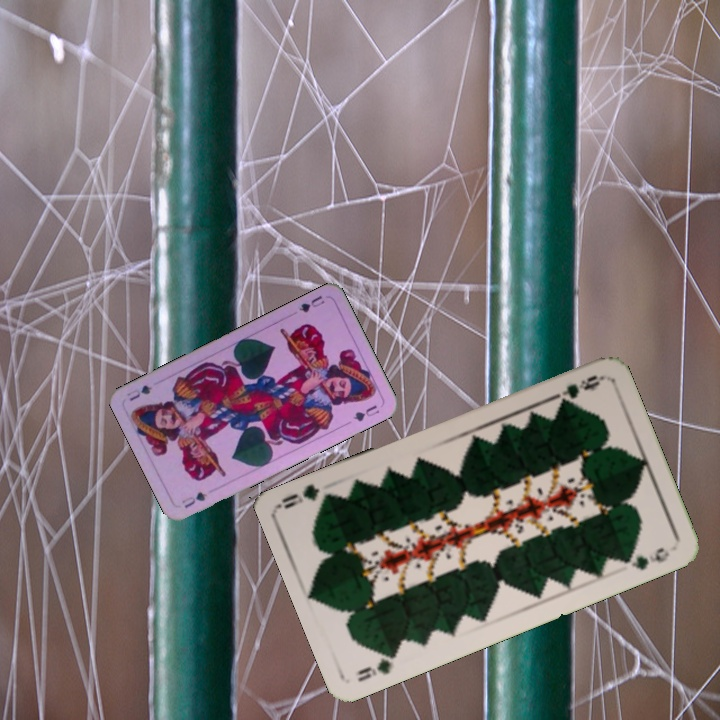G9: (548, 371, 605, 407), (353, 645, 402, 685)
GU: (295, 291, 327, 315), (177, 488, 210, 511)
